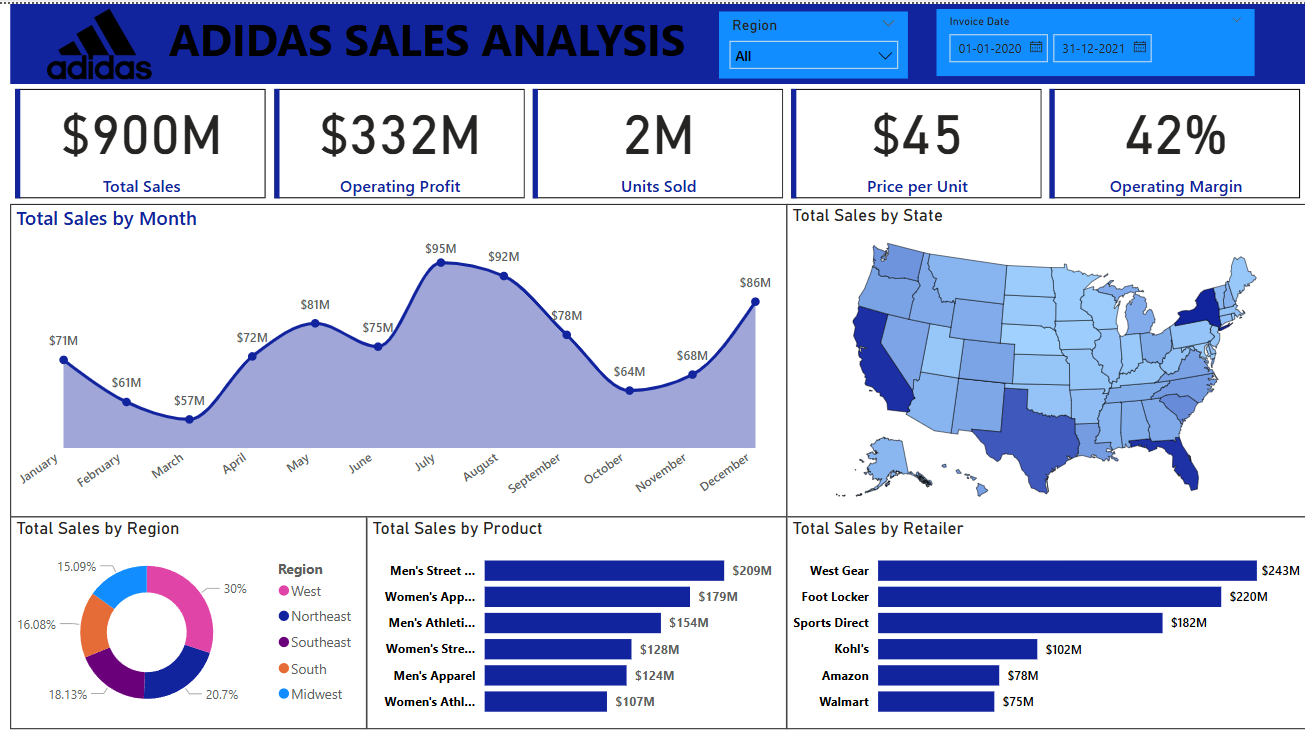

The dashboard page shown, as its layout file describes it:
{"tool":"powerbi","page":{"name":"Page 1","canvas":[1280,720],"ordinal":0},"visuals":[{"type":"shape","box":[10.7,0,1269,78.3],"z":0},{"type":"textbox","box":[162,0,525,78.3],"z":1000},{"type":"image","box":[10.7,0,174.4,78.3],"z":2000},{"type":"cardVisual","fields":{"Data":["Sum(Data Sales Adidas.Total Sales)","Sum(Data Sales Adidas.Operating Profit)","Sum(Data Sales Adidas.Units Sold)","Avg(Data Sales Adidas.Price per Unit)","Avg(Data Sales Adidas.Operating Margin)"]},"box":[10.7,78.3,1269,117.5],"z":3000},{"type":"areaChart","title":"Total Sales by Month","fields":{"Category":["Data Sales Adidas.Invoice Date.Variation.Date Hierarchy.Month"],"Y":["Sum(Data Sales Adidas.Total Sales)"]},"box":[10.7,195.8,760,306.1],"z":4000},{"type":"shapeMap","title":"Total Sales by State","fields":{"Category":["Data Sales Adidas.State"],"Value":["Sum(Data Sales Adidas.Total Sales)"]},"box":[770.6,195.8,509,306.1],"z":4001},{"type":"donutChart","title":"Total Sales by Region","fields":{"Category":["Data Sales Adidas.Region"],"Y":["Sum(Data Sales Adidas.Total Sales)"]},"box":[10.7,501.9,348.8,208.2],"z":4002},{"type":"barChart","title":"Total Sales by Product","fields":{"Category":["Data Sales Adidas.Product"],"Y":["Sum(Data Sales Adidas.Total Sales)"]},"box":[359.5,501.9,411.1,208.2],"z":4003},{"type":"barChart","title":"Total Sales by Retailer","fields":{"Category":["Data Sales Adidas.Retailer"],"Y":["Sum(Data Sales Adidas.Total Sales)"]},"box":[770.6,501.9,509,208.2],"z":4004},{"type":"slicer","fields":{"Values":["Data Sales Adidas.Region"]},"box":[704.8,7.1,185.1,65.9],"z":4005},{"type":"slicer","fields":{"Values":["Data Sales Adidas.Invoice Date"]},"box":[916.6,5.3,311.5,65.9],"z":4006}]}

Visuals, with their boxes in screenshot pixels (x1, y1, x2, y2), scaled from the page's 1280x720 canvas onto the 1305x739 screenshot:
shape: {"left": 11, "top": 0, "right": 1304, "bottom": 80}
textbox: {"left": 165, "top": 0, "right": 700, "bottom": 80}
image: {"left": 11, "top": 0, "right": 189, "bottom": 80}
cardVisual - Sum(Data Sales Adidas.Total Sales) x Sum(Data Sales Adidas.Operating Profit): {"left": 11, "top": 80, "right": 1304, "bottom": 201}
"Total Sales by Month" areaChart: {"left": 11, "top": 201, "right": 786, "bottom": 515}
"Total Sales by State" shapeMap: {"left": 786, "top": 201, "right": 1304, "bottom": 515}
"Total Sales by Region" donutChart: {"left": 11, "top": 515, "right": 367, "bottom": 729}
"Total Sales by Product" barChart: {"left": 367, "top": 515, "right": 786, "bottom": 729}
"Total Sales by Retailer" barChart: {"left": 786, "top": 515, "right": 1304, "bottom": 729}
slicer - Data Sales Adidas.Region: {"left": 719, "top": 7, "right": 907, "bottom": 75}
slicer - Data Sales Adidas.Invoice Date: {"left": 935, "top": 5, "right": 1252, "bottom": 73}
